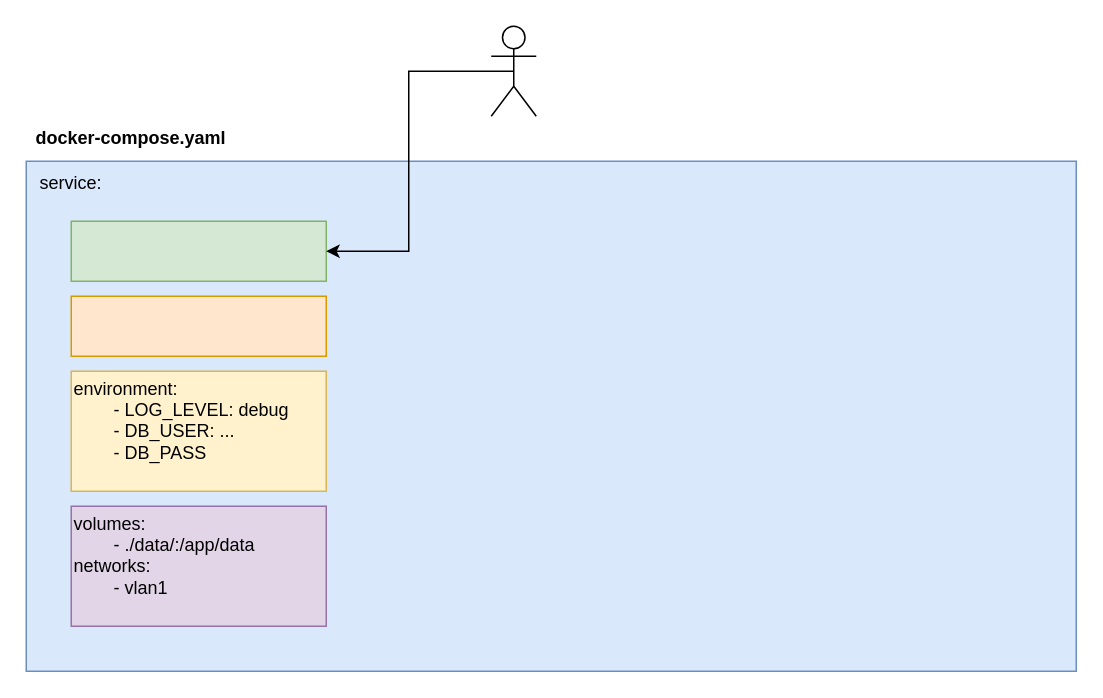
The diagram is 1103 pixels wide and 698 high, and some of its shapes have lost their labels. Each missing label, with the centre of its shape:
"name: app-container image: app-image" goes at pixel 198 250.
"ports: - 80:5000" goes at pixel 198 325.
